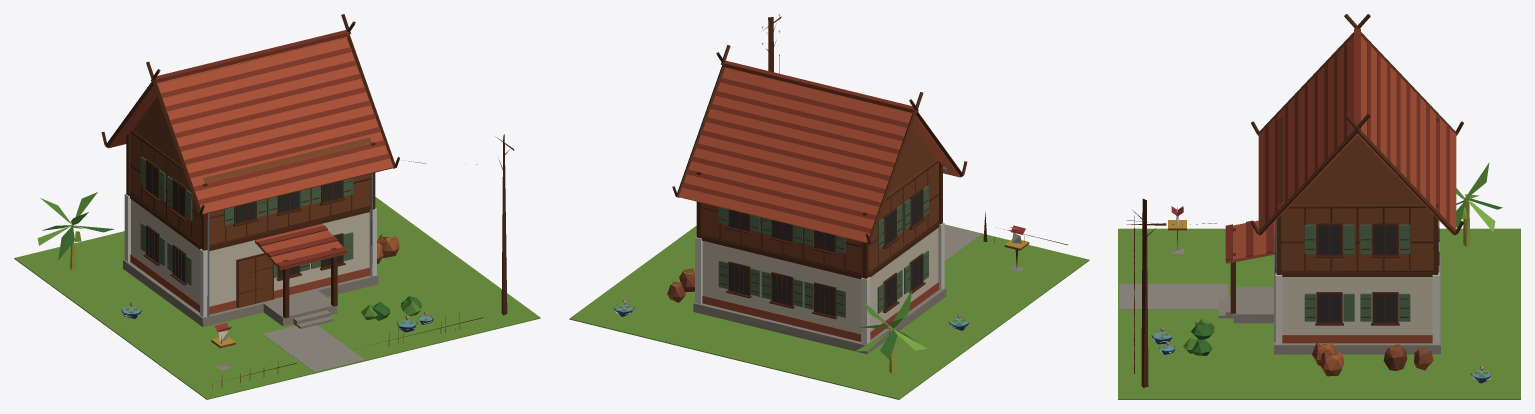
The model's file is home_2.glb.
3 renders of one model, left to right at view 1: azimuth 30°, elevation 25°; view 2: azimuth 150°, elevation 25°; view 3: azimuth 270°, elevation 25°, orthographic. The views are drawn at different scales.
Visible parts, largest first — view 1: body, windows; view 2: body, windows; view 3: body, windows.
Part boxes in pixels (bbox=[...]): body: bbox=[14, 14, 540, 399]; windows: bbox=[146, 162, 342, 280]; body: bbox=[569, 14, 1089, 399]; windows: bbox=[729, 190, 922, 315]; body: bbox=[1118, 14, 1520, 399]; windows: bbox=[1318, 225, 1396, 321].
Size of the model in its own units: 15.99 by 10.82 by 15.9.
